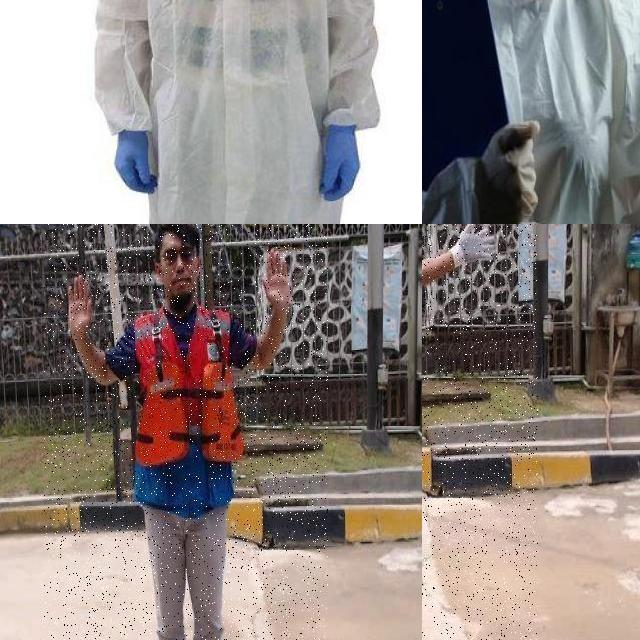GLASS: (164, 248, 198, 265)
GLOVE: (452, 224, 500, 270)
Glove: (478, 117, 540, 224), (320, 123, 366, 205), (112, 130, 160, 203)
VEST: (132, 307, 245, 509)
